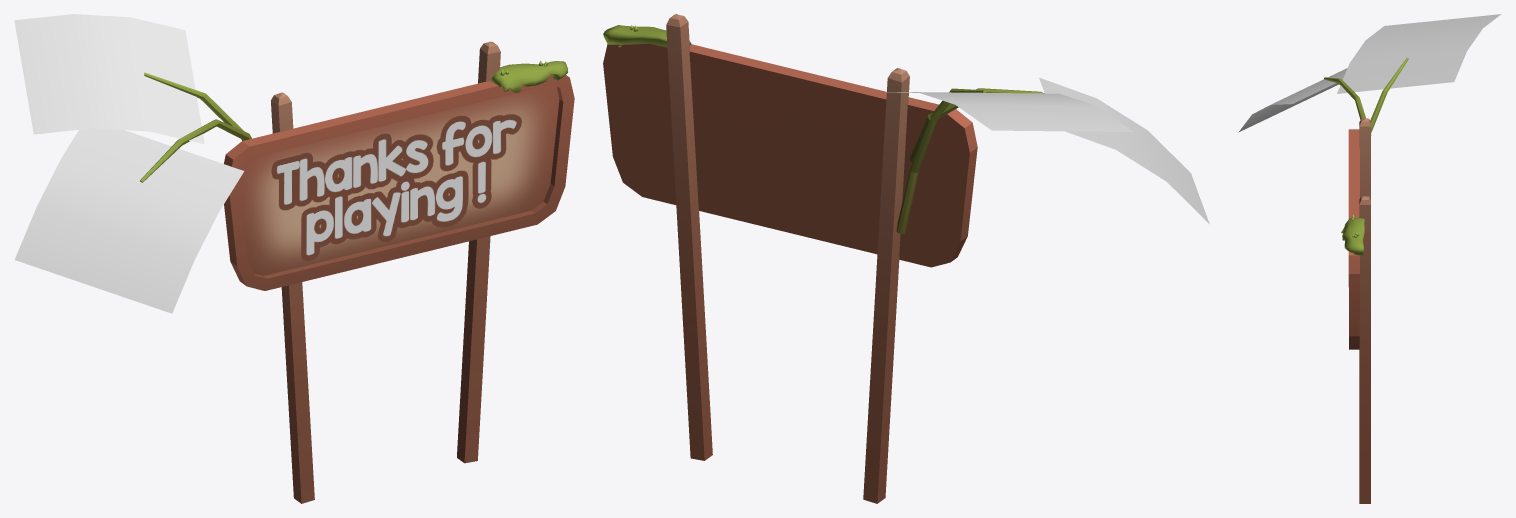
Rendered from sign_thanks.fbx.
3 renders of one model, left to right at view 1: azimuth 30°, elevation 25°; view 2: azimuth 150°, elevation 25°; view 3: azimuth 270°, elevation 25°, orthographic. The views are drawn at different scales.
Visible parts, largest first — view 1: Cube.034; view 2: Cube.034; view 3: Cube.034.
Part boxes in pixels (box(x1,y1,x2,y2)): Cube.034: box(14, 14, 574, 503); Cube.034: box(603, 14, 1209, 503); Cube.034: box(1238, 14, 1501, 503).
Bounding box in the file's own units: 2914 × 2308 × 1552.
